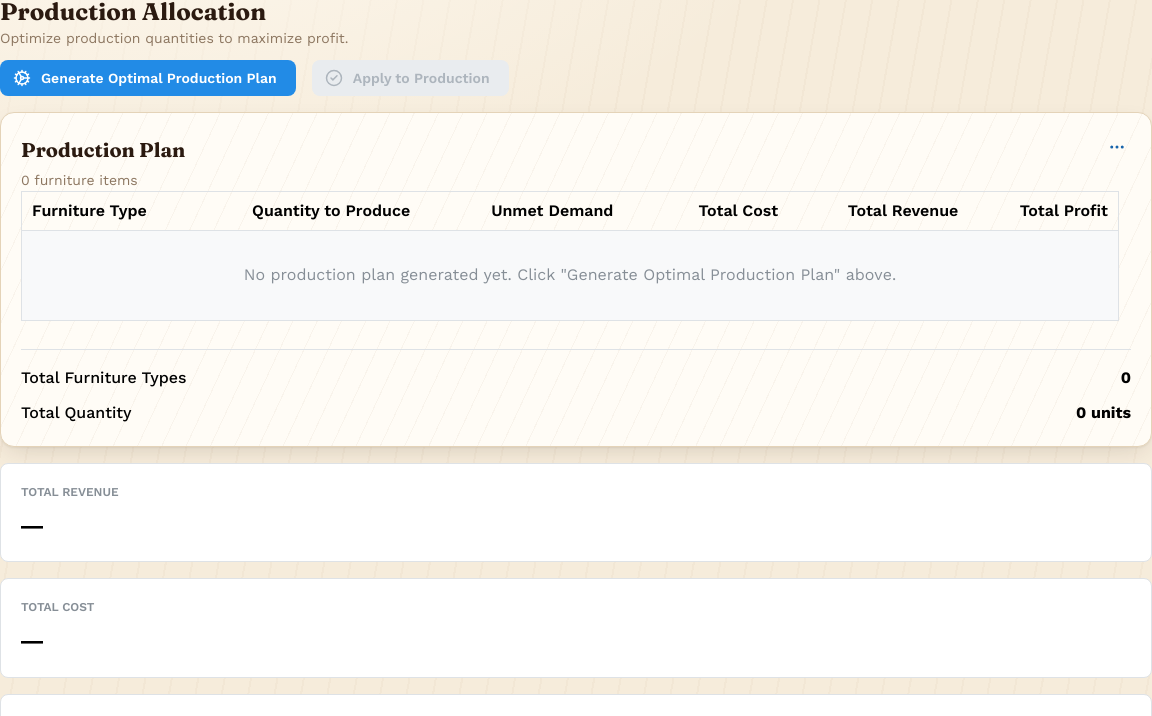
Scenario: ProductionAllocationPage generate mode modal › switches the checked option when Demand-Based is selected
Click the button "Generate Optimal Production Plan". click: (148, 78)
box: [0,60,296,96]
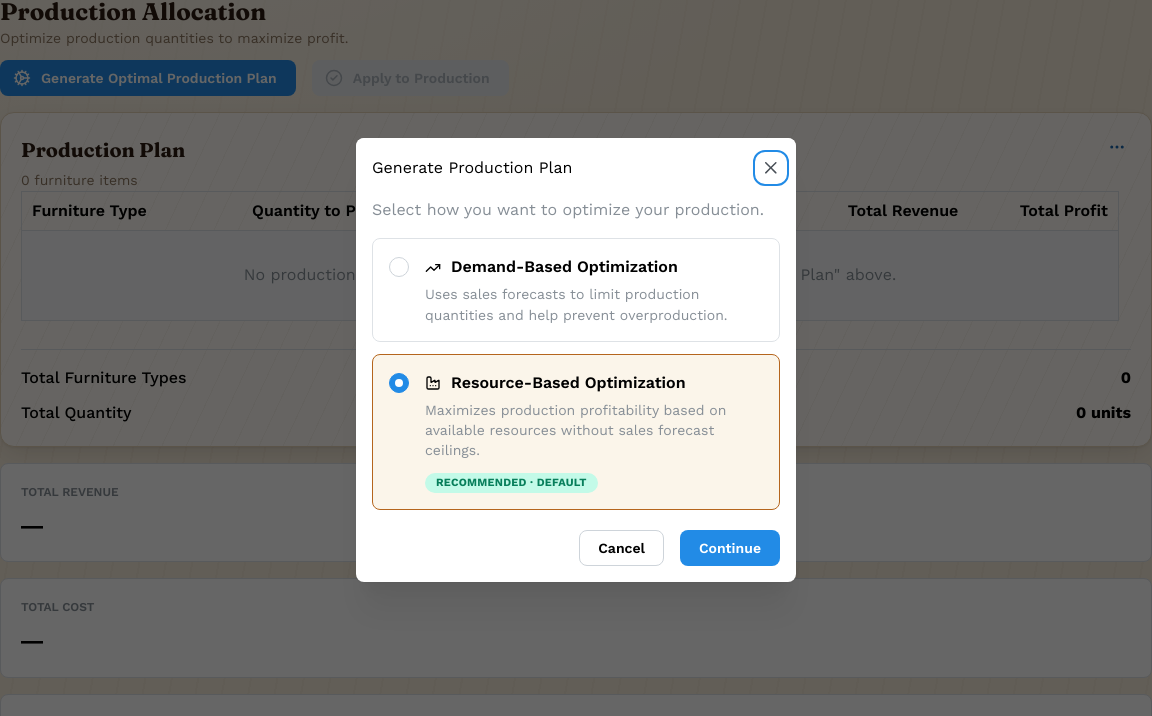
Check: the heading "Generate Production Plan" is shown, box [372,160,572,176]
Click the radio button labelled "Demand-Based Optimization". click: (576, 290)
box: [372,238,780,342]
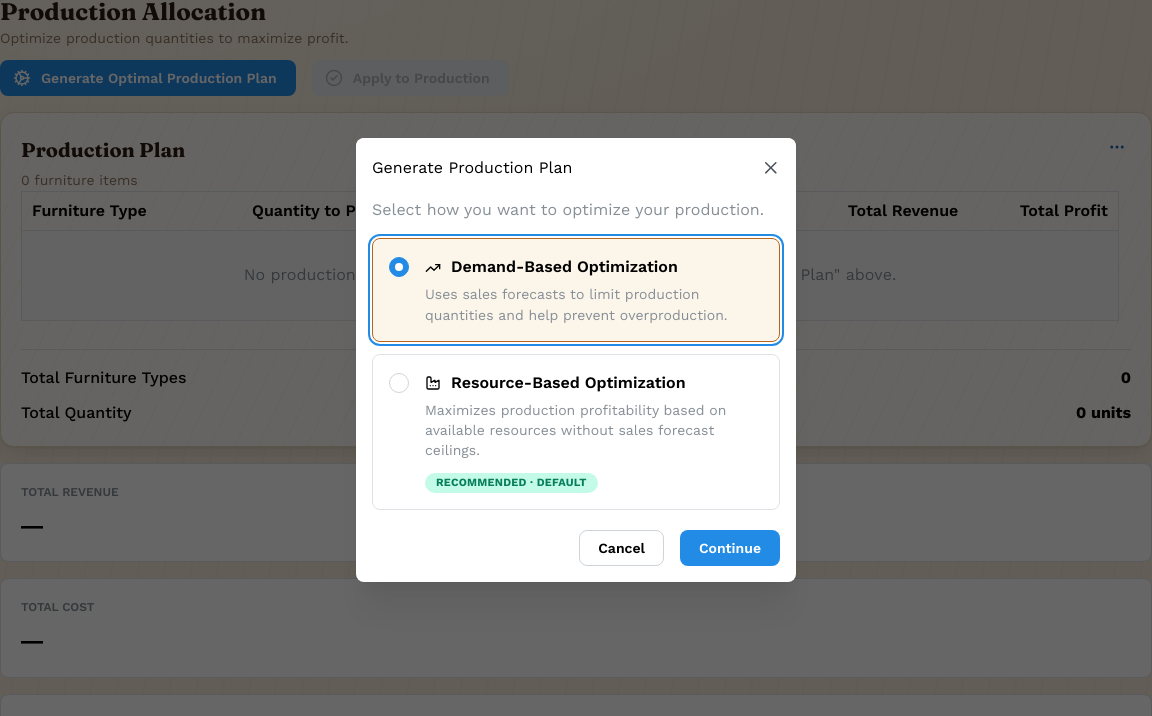
Check: the radio button labelled "Demand-Based Optimization" is checked, box [372,238,780,342]
Check: the radio button labelled "Resource-Based Optimization" is not checked, box [372,354,780,510]
